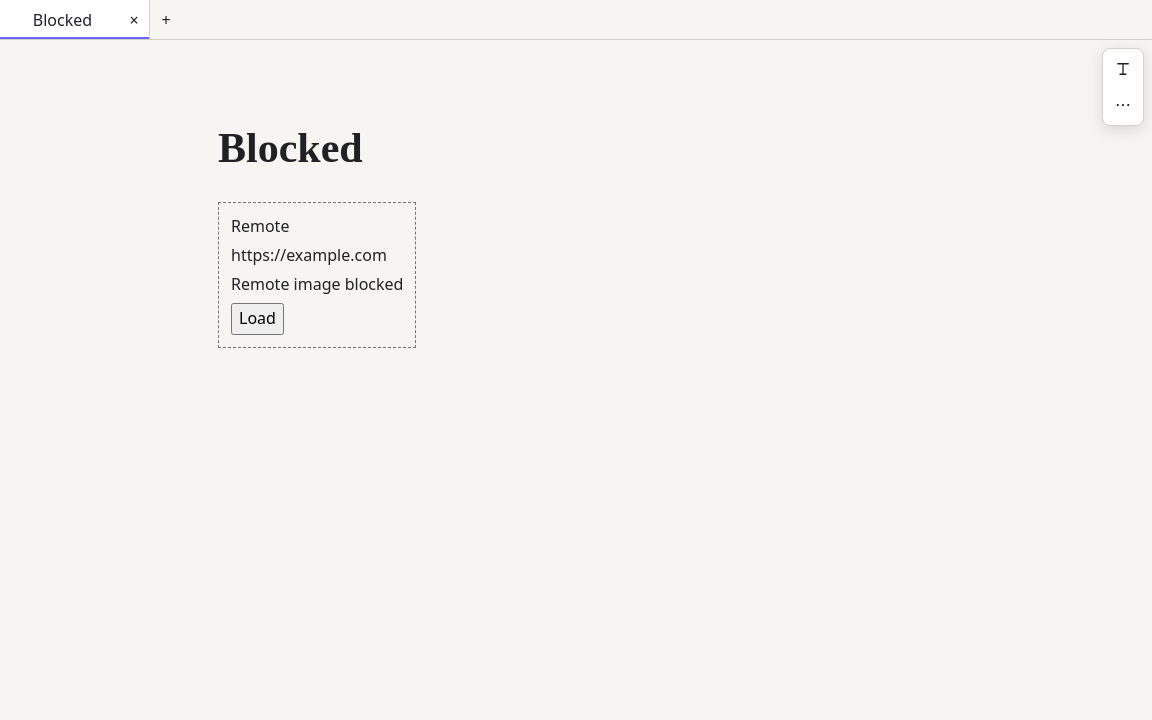
it: spec 0005 local images › AC19 AC21 AC30 AC34 AC42 AC45: cancel and blocked sources preserve the document without ambient loading
The image size is (1152, 720).
Expected: the element with test id "remote-image" is shown, [218,202,416,348]
Click the button with test id "toolbar-summary".
click(1123, 69)  # box [1107,53,1139,85]
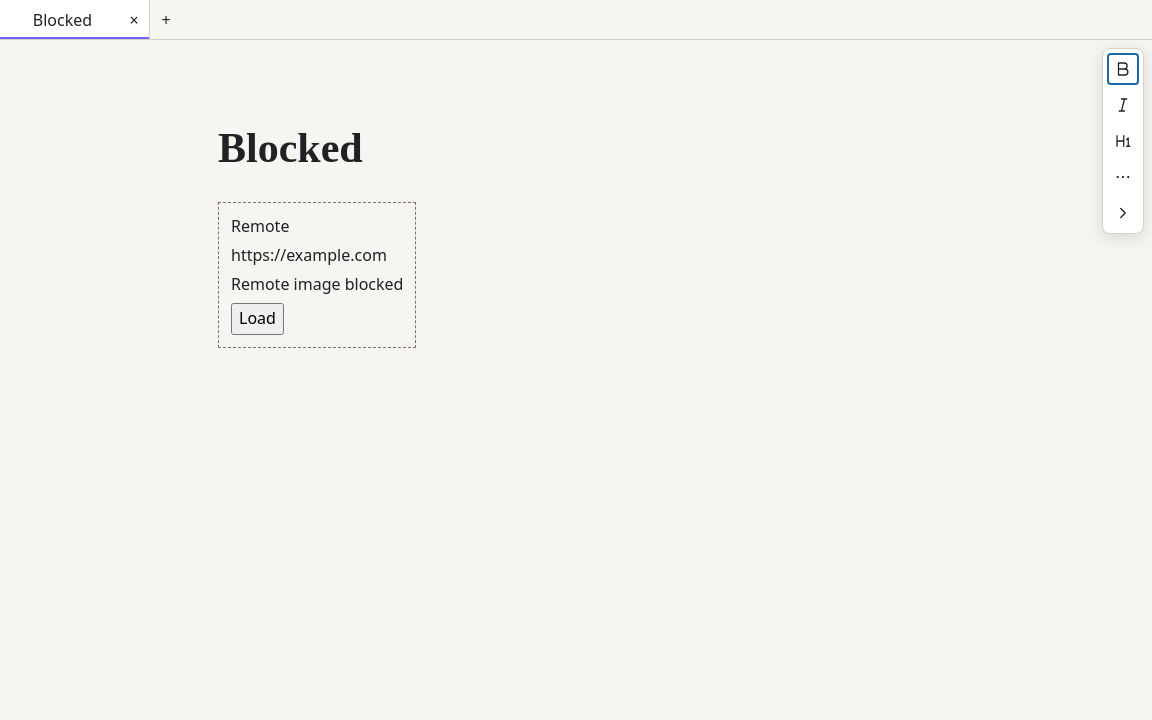
Click the button with test id "toolbar-more".
click(1123, 177)  # box [1107,161,1139,193]
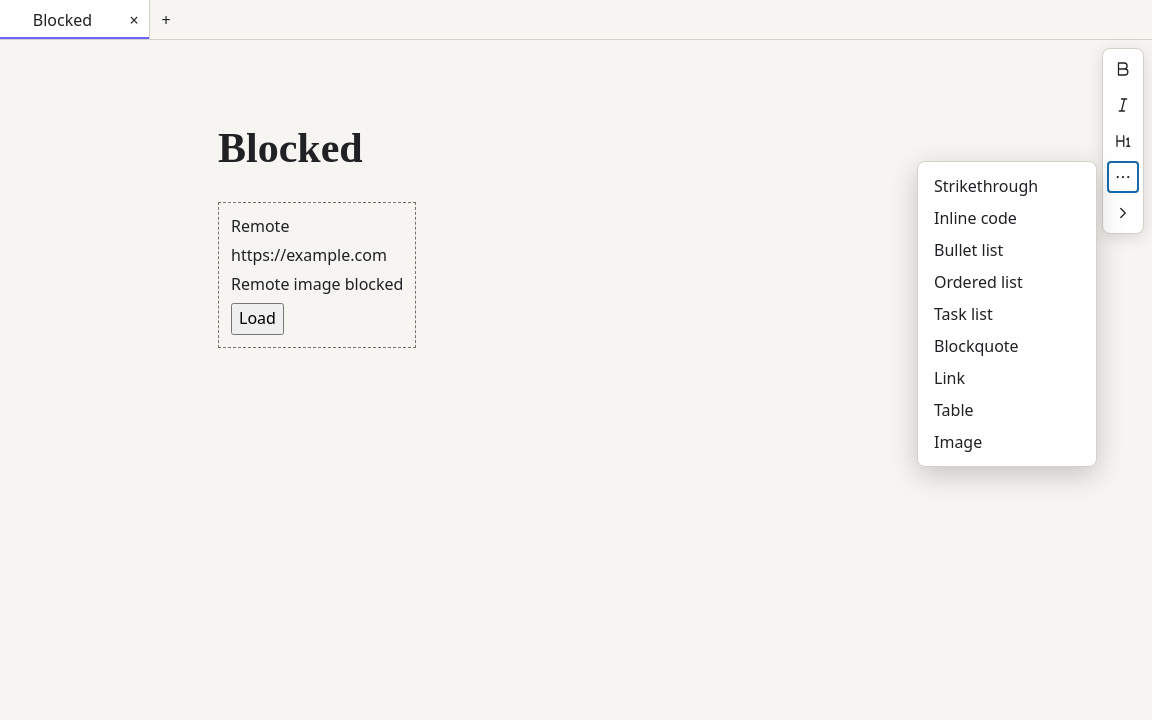
Click the menu item with test id "insert-image".
click(1007, 442)  # box [926,426,1088,458]
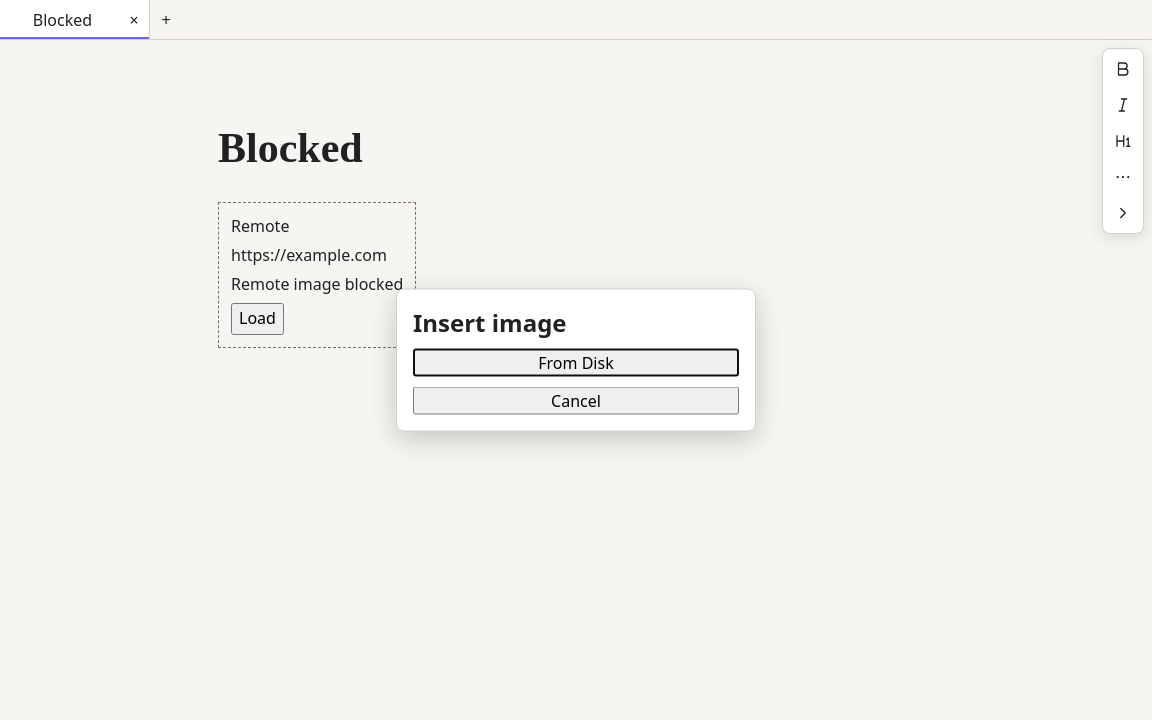
Click the button with test id "image-from-disk".
click(576, 362)  # box [413,348,739,376]
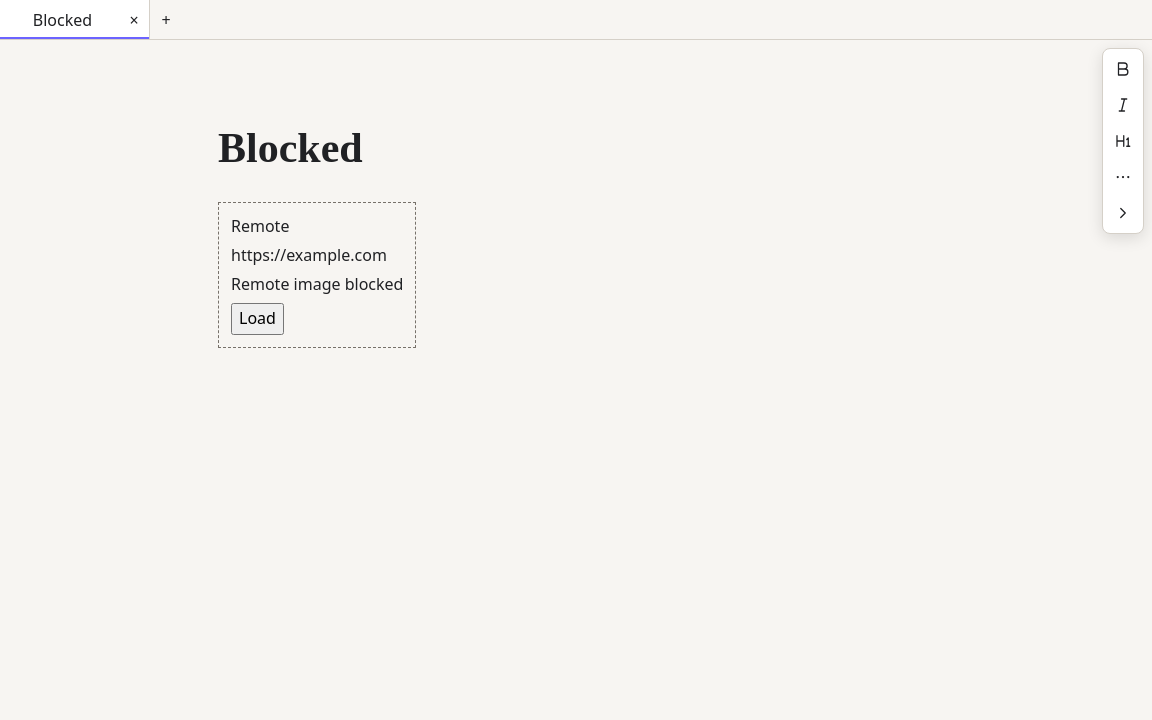
Expected: the dialog with test id "image-insert-popover" is gone
